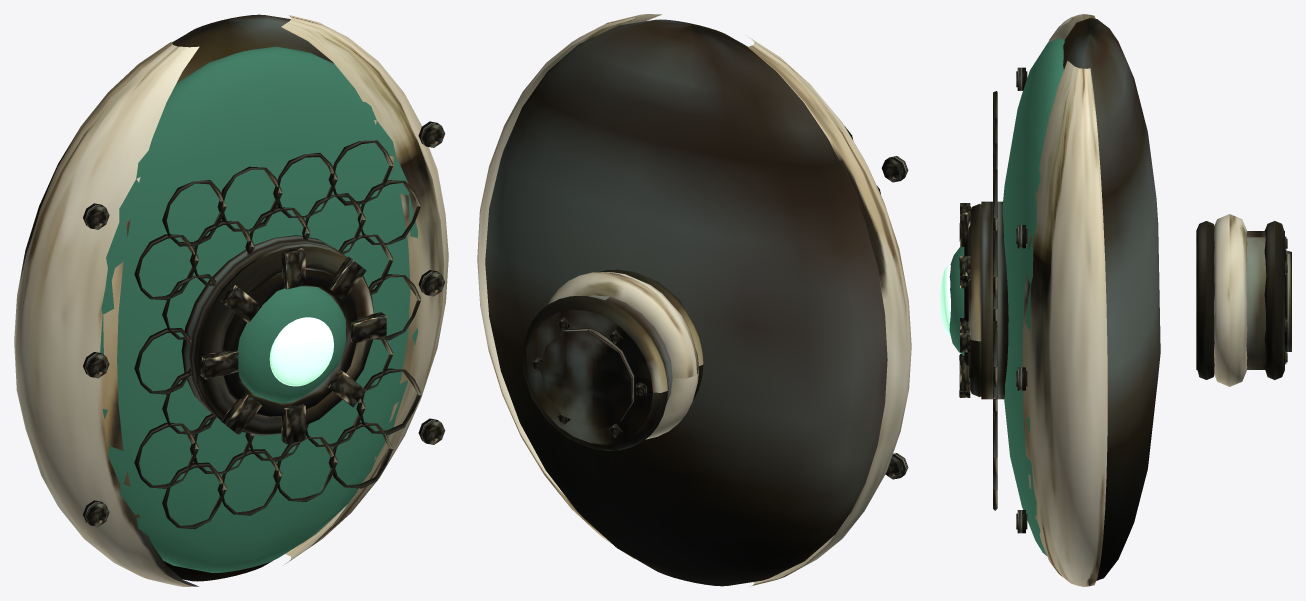
File: organ-shield-icon-v1.glb
3 renders of one model, left to right at view 1: azimuth 30°, elevation 25°; view 2: azimuth 150°, elevation 25°; view 3: azimuth 270°, elevation 25°, orthographic. The views are drawn at different scales.
Parts seen in each view (by area): view 1: organ-shield-icon-v1-glass, organ-shield-icon-v1-ceramic, organ-shield-icon-v1-brass, organ-shield-icon-v1-steel, organ-shield-icon-v1-light; view 2: organ-shield-icon-v1-steel, organ-shield-icon-v1-ceramic, organ-shield-icon-v1-brass; view 3: organ-shield-icon-v1-ceramic, organ-shield-icon-v1-steel, organ-shield-icon-v1-glass, organ-shield-icon-v1-brass, organ-shield-icon-v1-light.
Part boxes in pixels (bbox=[...]): organ-shield-icon-v1-glass: bbox=[100, 46, 417, 572]; organ-shield-icon-v1-ceramic: bbox=[14, 15, 448, 586]; organ-shield-icon-v1-brass: bbox=[91, 128, 441, 529]; organ-shield-icon-v1-steel: bbox=[83, 14, 445, 581]; organ-shield-icon-v1-light: bbox=[269, 317, 333, 386]; organ-shield-icon-v1-steel: bbox=[485, 19, 908, 586]; organ-shield-icon-v1-ceramic: bbox=[477, 14, 911, 586]; organ-shield-icon-v1-brass: bbox=[523, 126, 899, 476]; organ-shield-icon-v1-ceramic: bbox=[1022, 14, 1247, 586]; organ-shield-icon-v1-steel: bbox=[964, 18, 1291, 580]; organ-shield-icon-v1-glass: bbox=[949, 38, 1064, 555]; organ-shield-icon-v1-brass: bbox=[959, 71, 1287, 529]; organ-shield-icon-v1-light: bbox=[940, 265, 950, 335].
Size of the model in its own units: 0.689 by 0.86 by 0.5147.
Materials: 3 (1 with a texture image).
